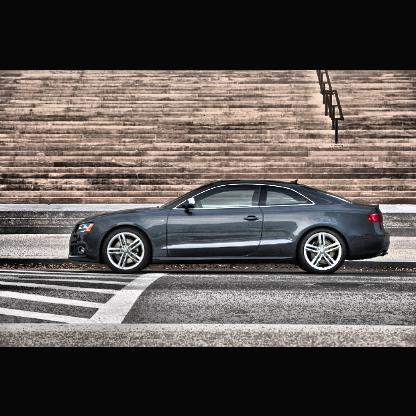Audi S5 Coupe 2012: (71, 183, 391, 276)
